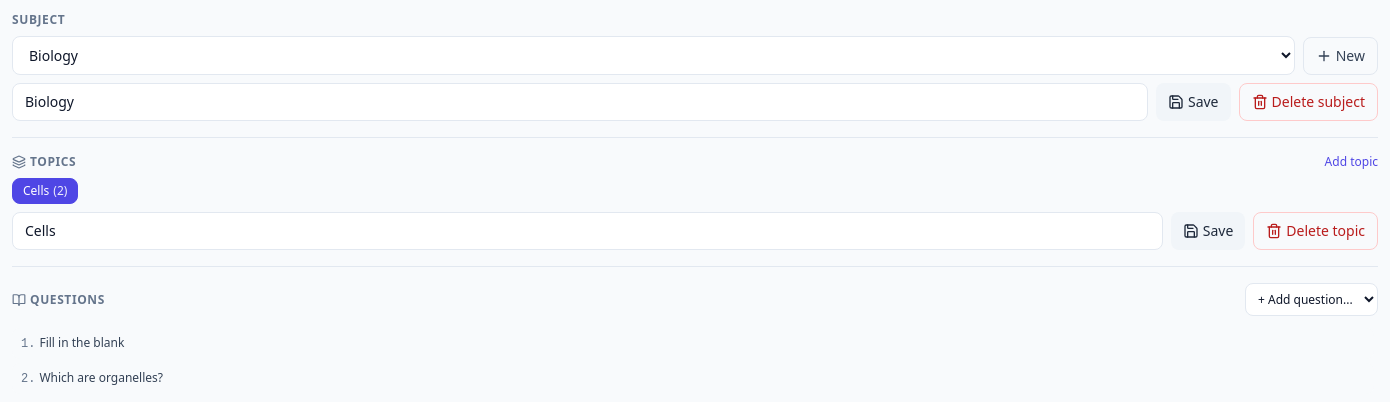
Test: ContentEditor › renames the topic from its name field
The image size is (1390, 402).
Replace the text in the field named "Topic name" with "Cell biology" at (587, 231), box [12,212,1163,250]
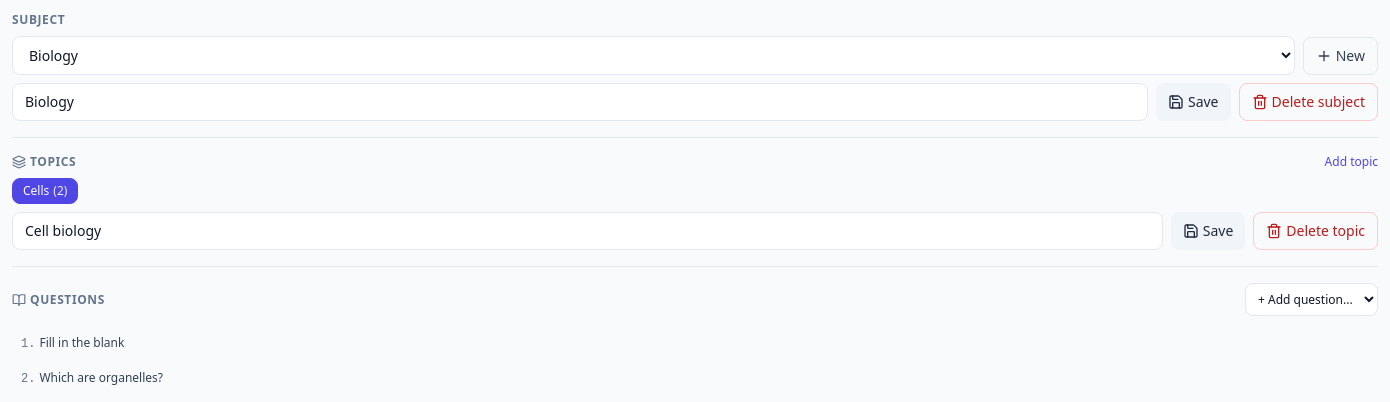
Submit the form from the field named "Topic name", box [12,212,1163,250]
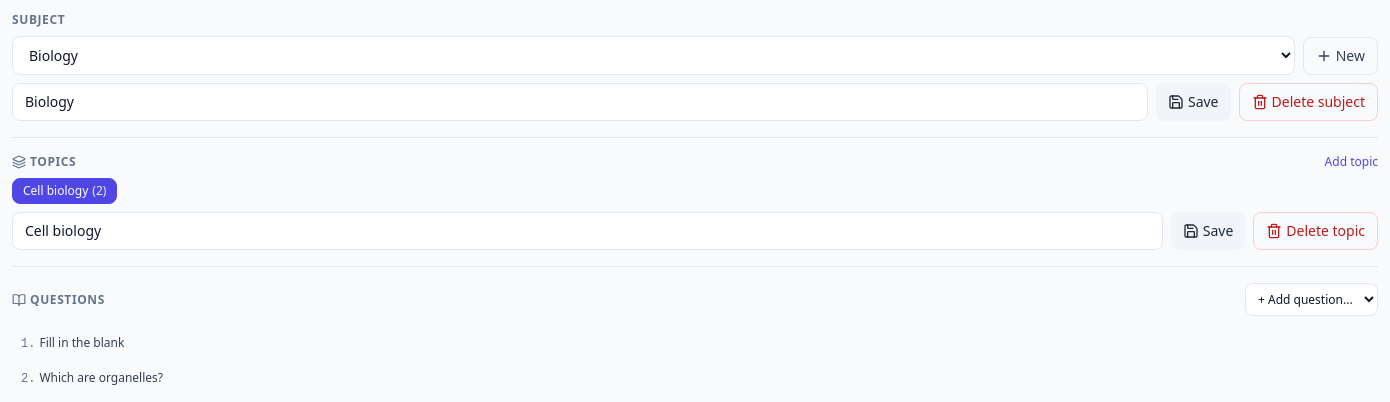
Expected: the button "Cell biology(2)" is shown, [12,178,117,204]
